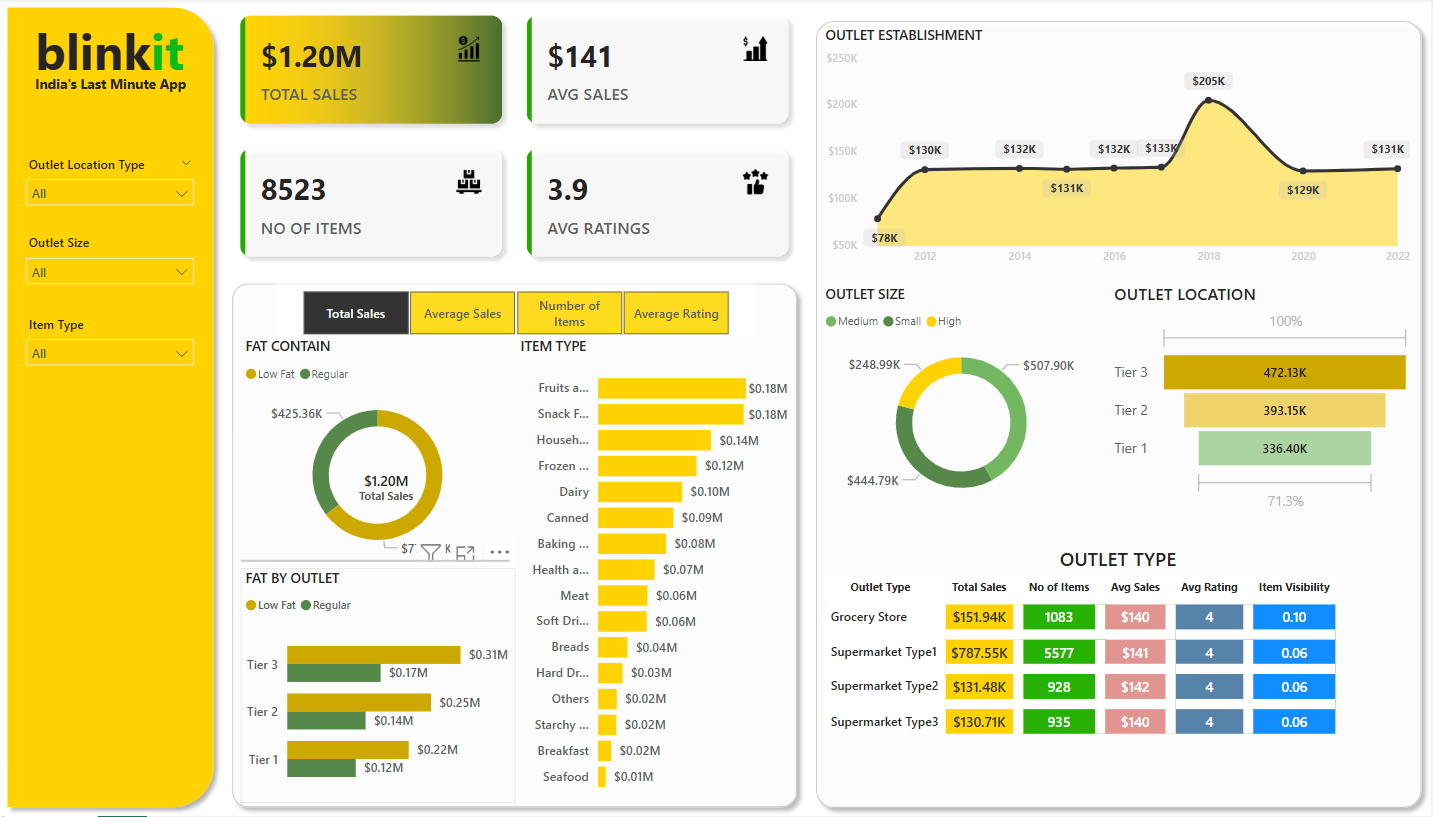

The page's visual inventory and layout, read from the dashboard file:
{"tool":"powerbi","page":{"name":"Page 1","canvas":[1400,800],"ordinal":0},"visuals":[{"type":"shape","box":[0,0,220,800],"z":0},{"type":"textbox","box":[17.1,12.9,184.3,75.7],"z":1000},{"type":"textbox","box":[0,70,220,35.7],"z":2000},{"type":"cardVisual","fields":{"Data":["BlinkIT Grocery Data.Total Sales","BlinkIT Grocery Data.Average Sales","BlinkIT Grocery Data.Number of Items","BlinkIT Grocery Data.Average Rating"]},"box":[220,0,570,270],"z":3000},{"type":"shape","box":[220,270,570,530],"z":4000},{"type":"donutChart","title":"FAT CONTAIN","fields":{"Y":["BlinkIT Grocery Data.Total Sales"],"Category":["BlinkIT Grocery Data.Item Fat Content"]},"box":[237.1,331.4,268.6,225.7],"z":5000},{"type":"slicer","fields":{"Values":["Metrics.Metrics"]},"box":[272.9,280,465.7,51.4],"z":6000},{"type":"cardVisual","fields":{"Data":["BlinkIT Grocery Data.Total Sales"]},"box":[292.9,418.6,172.9,118.6],"z":7000},{"type":"clusteredBarChart","title":"FAT BY OUTLET","fields":{"Y":["BlinkIT Grocery Data.Total Sales"],"Category":["BlinkIT Grocery Data.Outlet Location Type"],"Series":["BlinkIT Grocery Data.Item Fat Content"]},"box":[237.1,557.1,268.6,230],"z":8000},{"type":"shape","box":[237.1,544.3,264.3,12.9],"z":9000},{"type":"barChart","title":"ITEM TYPE","fields":{"Y":["BlinkIT Grocery Data.Total Sales"],"Category":["BlinkIT Grocery Data.Item Type"]},"box":[505.7,331.4,271.4,455.7],"z":10000},{"type":"shape","box":[790,12.9,610,787.1],"z":11000},{"type":"lineChart","title":"OUTLET ESTABLISHMENT","fields":{"Category":["BlinkIT Grocery Data.Outlet Establishment Year"],"Y":["BlinkIT Grocery Data.Total Sales"]},"box":[804.3,27.1,581.4,242.9],"z":12000},{"type":"donutChart","title":"OUTLET SIZE","fields":{"Y":["BlinkIT Grocery Data.Total Sales"],"Category":["BlinkIT Grocery Data.Outlet Size"]},"box":[804.3,280,275,225.7],"z":13000},{"type":"funnel","title":"OUTLET LOCATION","fields":{"Category":["BlinkIT Grocery Data.Outlet Location Type"],"Y":["Sum(BlinkIT Grocery Data.Sales)"]},"box":[1085.7,277.1,300,230],"z":13001},{"type":"pivotTable","title":"OUTLET TYPE","fields":{"Rows":["BlinkIT Grocery Data.Outlet Type"],"Values":["BlinkIT Grocery Data.Total Sales","BlinkIT Grocery Data.Number of Items","BlinkIT Grocery Data.Average Sales","BlinkIT Grocery Data.Average Rating","Avg(BlinkIT Grocery Data.Item Visibility)"]},"box":[804.3,535.7,581.4,225.7],"z":13002},{"type":"slicer","fields":{"Values":["BlinkIT Grocery Data.Outlet Location Type"]},"box":[17.1,148.6,184.3,80],"z":13003},{"type":"slicer","fields":{"Values":["BlinkIT Grocery Data.Outlet Size"]},"box":[17.1,225.7,184.3,80],"z":13004},{"type":"slicer","fields":{"Values":["BlinkIT Grocery Data.Item Type"]},"box":[17.1,305.7,184.3,80],"z":13005}]}

Visuals, with their boxes in screenshot pixels (x1, y1, x2, y2), scaled from the page's 1400x800 canvas onto the 1433x817 screenshot:
shape: (left=0, top=0, right=225, bottom=816)
textbox: (left=18, top=13, right=206, bottom=90)
textbox: (left=0, top=71, right=225, bottom=108)
cardVisual - BlinkIT Grocery Data.Total Sales x BlinkIT Grocery Data.Average Sales: (left=225, top=0, right=809, bottom=276)
shape: (left=225, top=276, right=809, bottom=816)
"FAT CONTAIN" donutChart: (left=243, top=338, right=518, bottom=569)
slicer - Metrics.Metrics: (left=279, top=286, right=756, bottom=338)
cardVisual - BlinkIT Grocery Data.Total Sales: (left=300, top=427, right=477, bottom=549)
"FAT BY OUTLET" clusteredBarChart: (left=243, top=569, right=518, bottom=804)
shape: (left=243, top=556, right=513, bottom=569)
"ITEM TYPE" barChart: (left=518, top=338, right=795, bottom=804)
shape: (left=809, top=13, right=1432, bottom=816)
"OUTLET ESTABLISHMENT" lineChart: (left=823, top=28, right=1418, bottom=276)
"OUTLET SIZE" donutChart: (left=823, top=286, right=1105, bottom=516)
"OUTLET LOCATION" funnel: (left=1111, top=283, right=1418, bottom=518)
"OUTLET TYPE" pivotTable: (left=823, top=547, right=1418, bottom=778)
slicer - BlinkIT Grocery Data.Outlet Location Type: (left=18, top=152, right=206, bottom=233)
slicer - BlinkIT Grocery Data.Outlet Size: (left=18, top=230, right=206, bottom=312)
slicer - BlinkIT Grocery Data.Item Type: (left=18, top=312, right=206, bottom=394)
